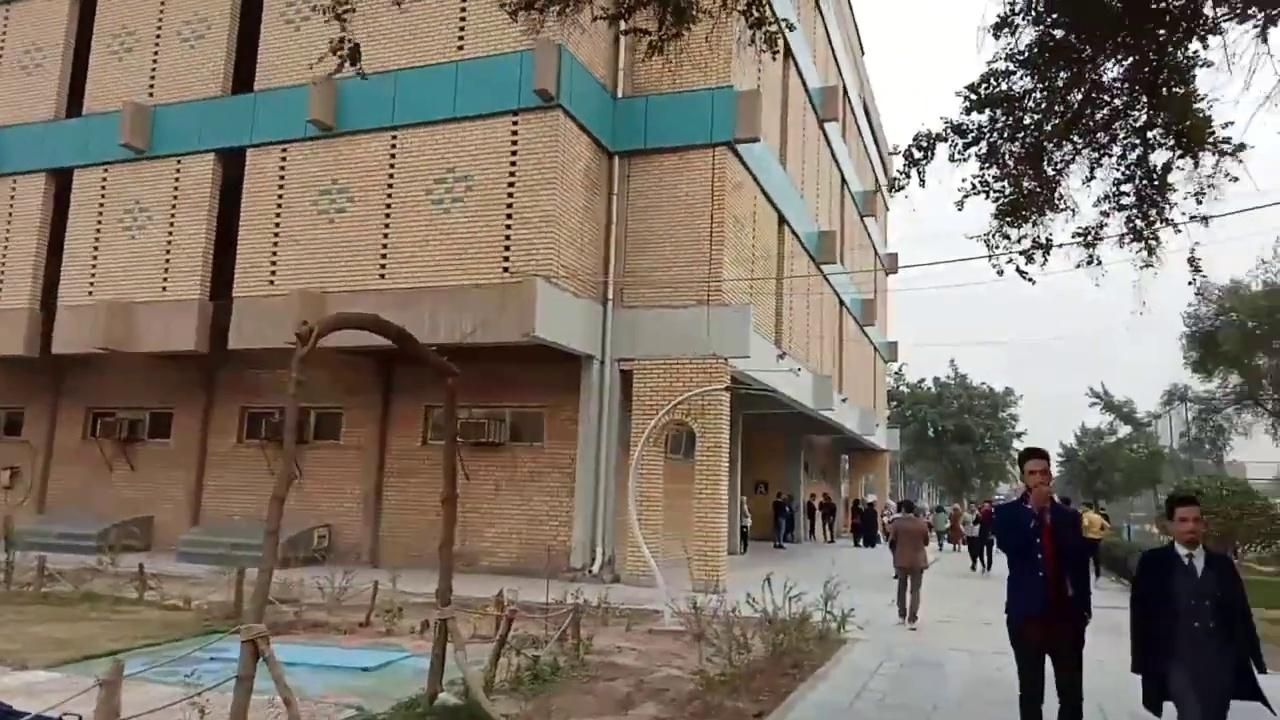person: (1129, 493, 1277, 719), (990, 446, 1093, 719), (887, 499, 929, 629), (1079, 501, 1110, 583), (739, 495, 751, 554)
tree: (884, 0, 1278, 302), (225, 309, 468, 717), (885, 356, 1028, 511), (1176, 234, 1279, 449), (497, 0, 798, 65), (1053, 380, 1166, 523), (1166, 473, 1279, 562), (1053, 420, 1133, 513), (1158, 381, 1232, 476), (1084, 380, 1156, 436)
